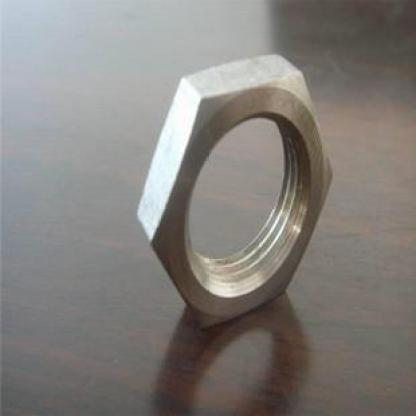FOD: (132, 48, 335, 329)
